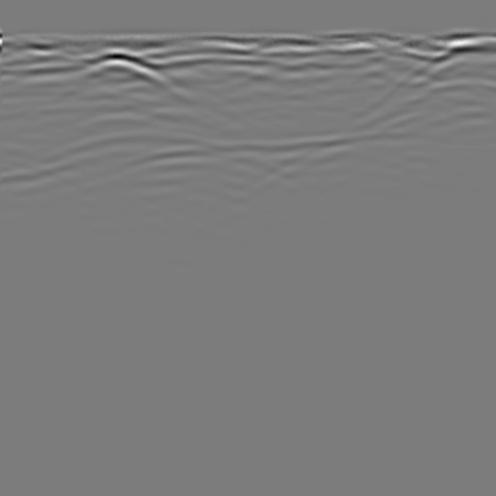hyperbola: (18, 113, 290, 214)
